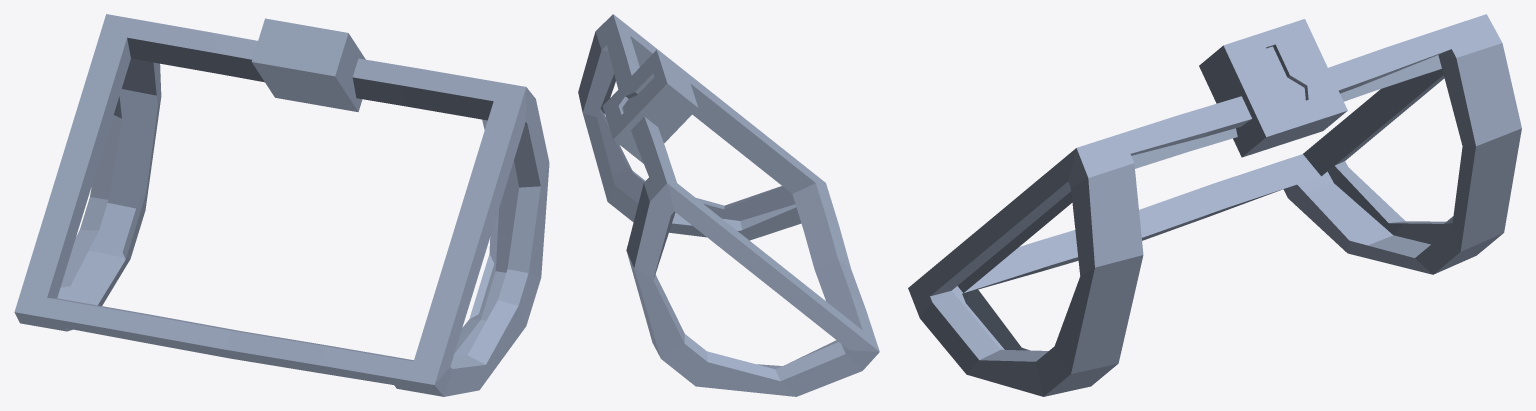
Rendered from n2_chest_top_light_grey_0_lev2.002.glb.
3 views of the same model, side by side, from view 1: azimuth 30°, elevation 25°; view 2: azimuth 150°, elevation 25°; view 3: azimuth 270°, elevation 25° (orthographic). The views are drawn at different scales.
Visible parts, largest first — view 1: n2_chest_top_light_grey_0_lev2.002; view 2: n2_chest_top_light_grey_0_lev2.002; view 3: n2_chest_top_light_grey_0_lev2.002.
Boxes of the visible parts, x1,y1,x2,y2 form: n2_chest_top_light_grey_0_lev2.002: (14, 14, 549, 396); n2_chest_top_light_grey_0_lev2.002: (578, 14, 879, 396); n2_chest_top_light_grey_0_lev2.002: (908, 14, 1521, 396).
Size of the model in its own units: 2.01 by 1.23 by 2.14.
